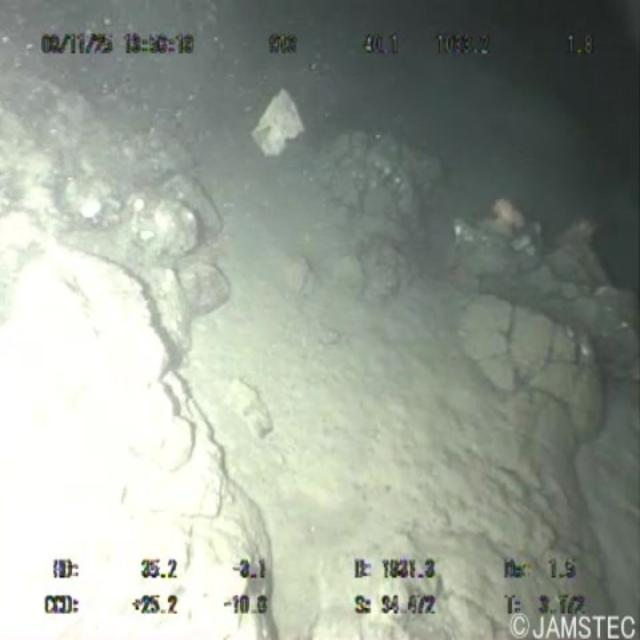Cutlery: (248, 68, 316, 166)
